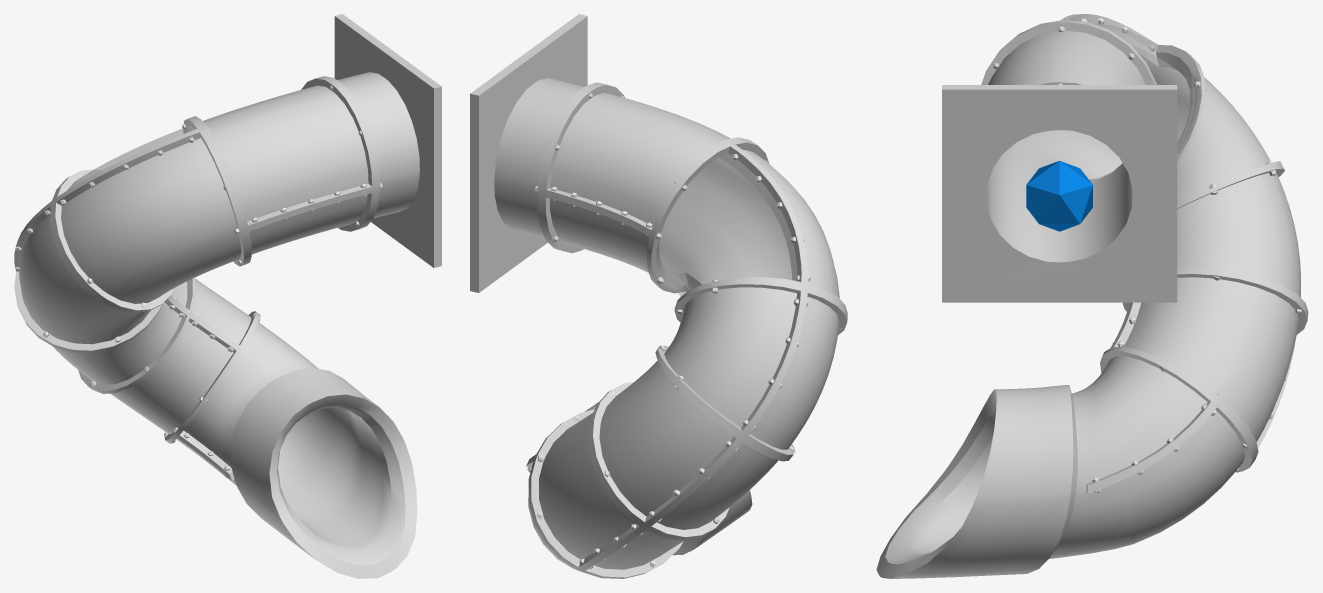
The model's file is Turbo twister slider 5' clear.glb.
The picture shows the model from 3 angles, left to right: view 1: azimuth 30°, elevation 25°; view 2: azimuth 150°, elevation 25°; view 3: azimuth 270°, elevation 25°; orthographic projection. The views are drawn at different scales.
Visible parts, largest first — view 1: Turbo Twister Slider.004, Side winder slide.010, Turbo Twister Slider.005; view 2: Turbo Twister Slider.004, Turbo Twister Slider.005, Side winder slide.010; view 3: Turbo Twister Slider.004, Joint.061, Turbo Twister Slider.005, Side winder slide.010.
Boxes of the visible parts, <box> form: Turbo Twister Slider.004: <box>14,14,441,578</box>; Side winder slide.010: <box>15,85,382,477</box>; Turbo Twister Slider.005: <box>68,126,194,189</box>; Turbo Twister Slider.004: <box>470,14,847,578</box>; Turbo Twister Slider.005: <box>656,153,797,296</box>; Side winder slide.010: <box>527,93,843,569</box>; Turbo Twister Slider.004: <box>876,14,1308,578</box>; Joint.061: <box>1026,160,1092,231</box>; Turbo Twister Slider.005: <box>1089,23,1194,182</box>; Side winder slide.010: <box>993,17,1302,493</box>.
Size of the model in its own units: 1.81 by 2.29 by 1.68.
Materials: 4 (1 with a texture image).
